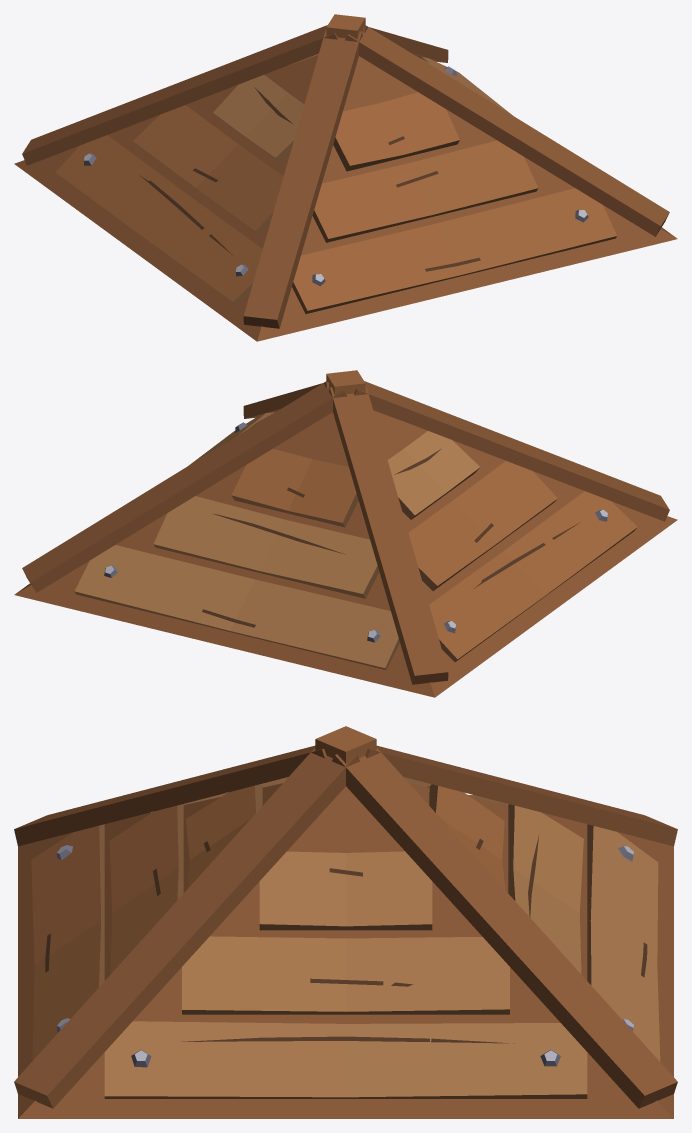
Rendered from cone_plank.glb.
The picture shows the model from 3 angles, top to bottom: view 1: azimuth 30°, elevation 25°; view 2: azimuth 150°, elevation 25°; view 3: azimuth 270°, elevation 25°; orthographic projection. The views are drawn at different scales.
Visible parts, largest first — view 1: Body; view 2: Body; view 3: Body.
Part boxes in pixels (x1,y1,x2,y2): Body: [14, 14, 677, 341]; Body: [14, 370, 677, 697]; Body: [14, 726, 677, 1118].
Size of the model in its own units: 3.99 by 1.6 by 3.99.
